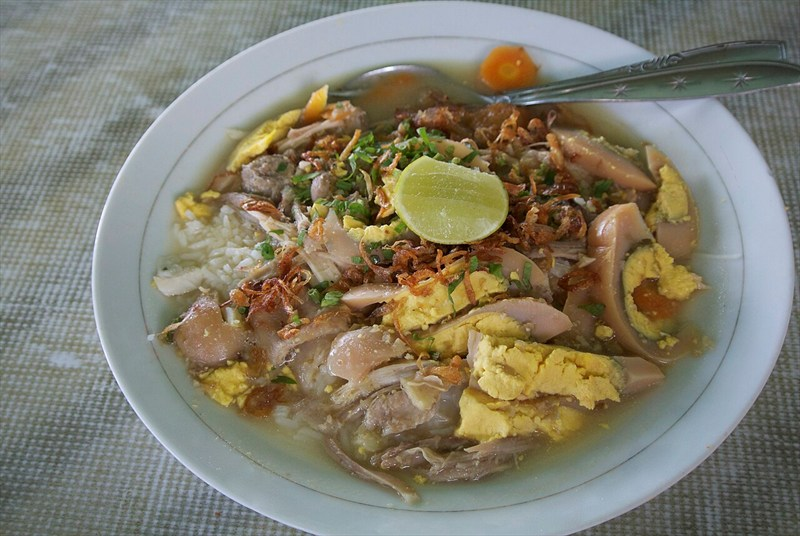Soto Ayam: (207, 93, 668, 425)
